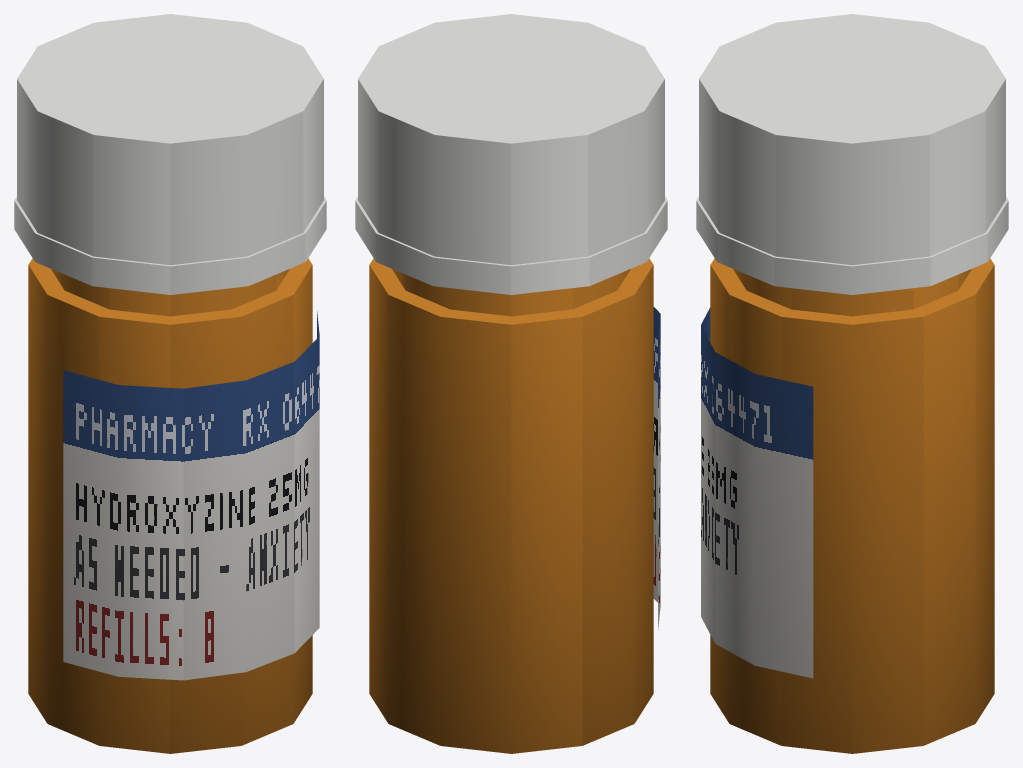
Rendered from pill_bottle_small.glb.
3 views of the same model, side by side, from view 1: azimuth 30°, elevation 25°; view 2: azimuth 150°, elevation 25°; view 3: azimuth 270°, elevation 25° (orthographic).
Visible parts, largest first — view 1: body, panels; view 2: body, panels; view 3: body, panels.
Part boxes in pixels (x1,y1,x2,y2): body: [14, 14, 326, 753]; panels: [63, 311, 319, 680]; body: [355, 14, 667, 753]; panels: [653, 307, 660, 629]; body: [696, 14, 1008, 753]; panels: [701, 307, 813, 678].
Size of what is drawn, in the model's own units: 0.0396 by 0.086 by 0.0396.
Materials: 3 (1 with a texture image).
